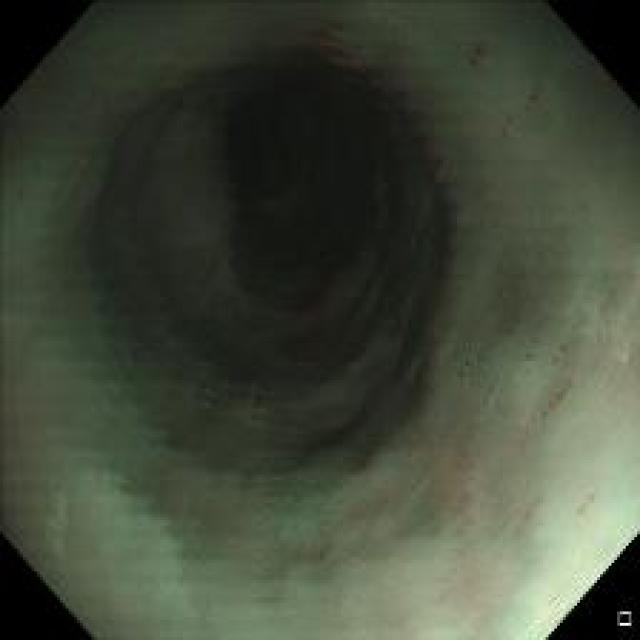color misalignment: (192, 375, 270, 425)
contrast: (92, 30, 454, 462)
